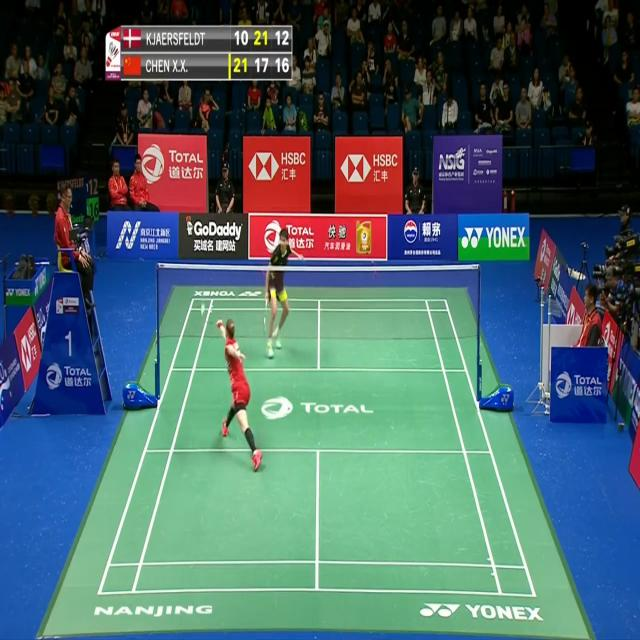Player1: (214, 316, 265, 480)
Player2: (264, 220, 306, 361)
